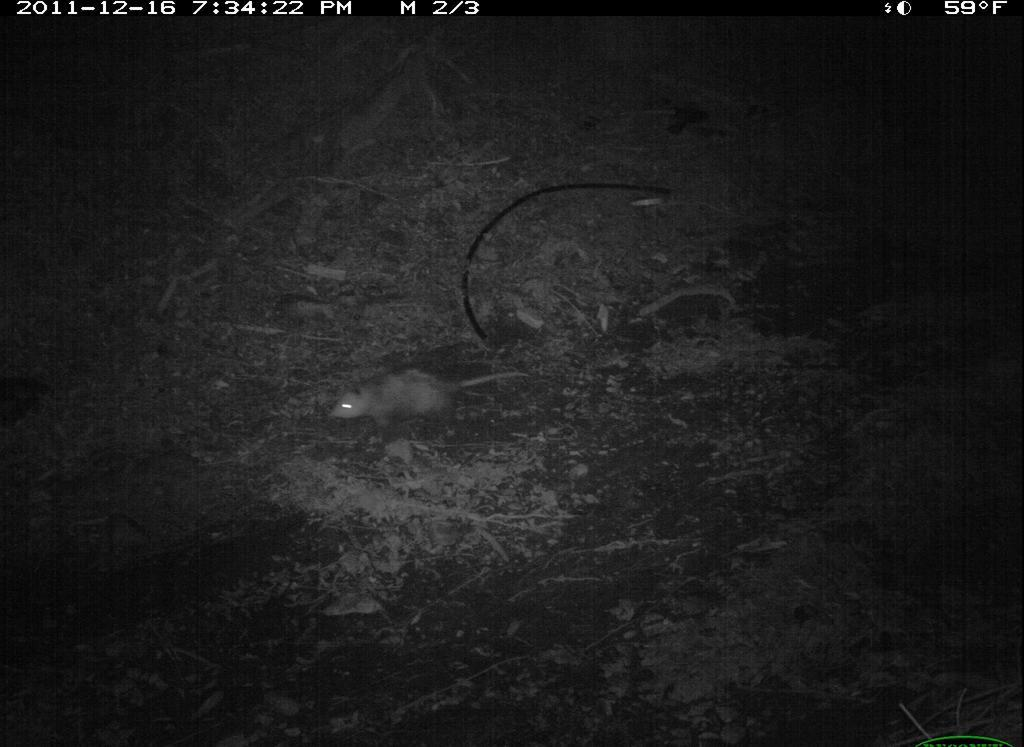opossum: (322, 358, 538, 437)
